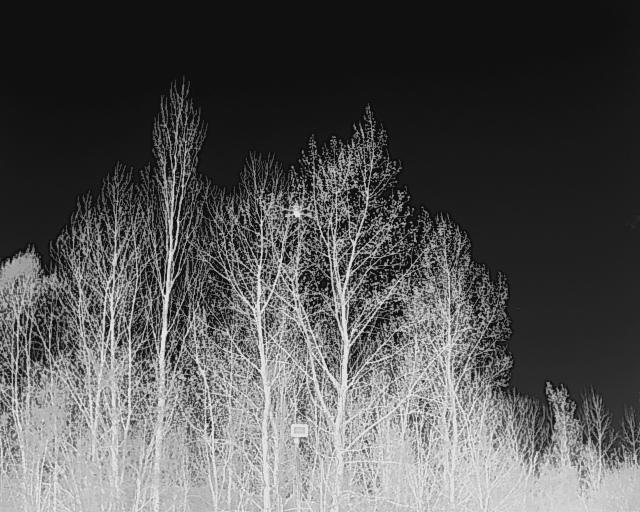drone: (276, 197, 317, 228)
